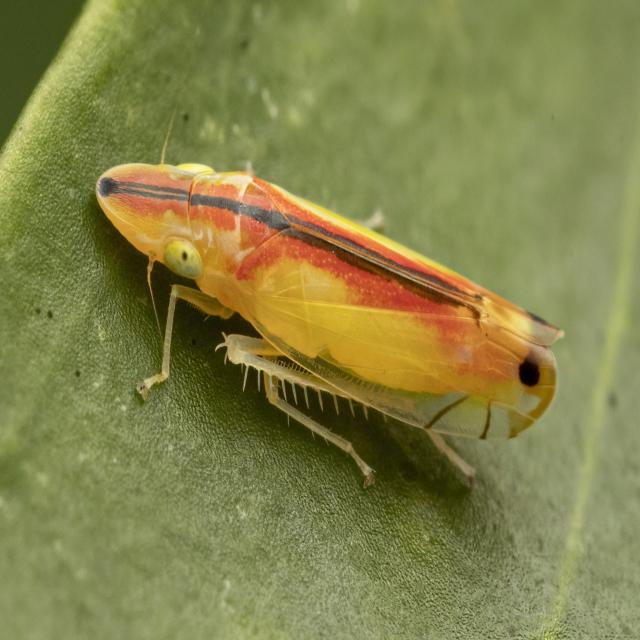Yechan: (79, 145, 597, 510)
